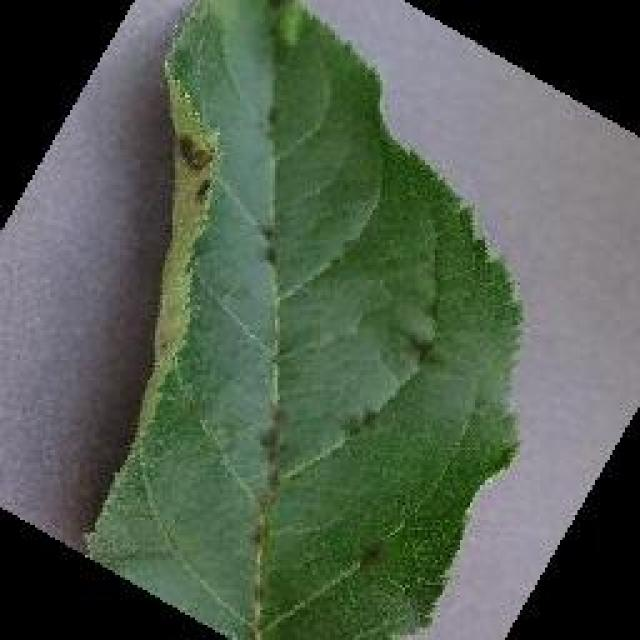apple scab disease: (77, 0, 525, 638)
